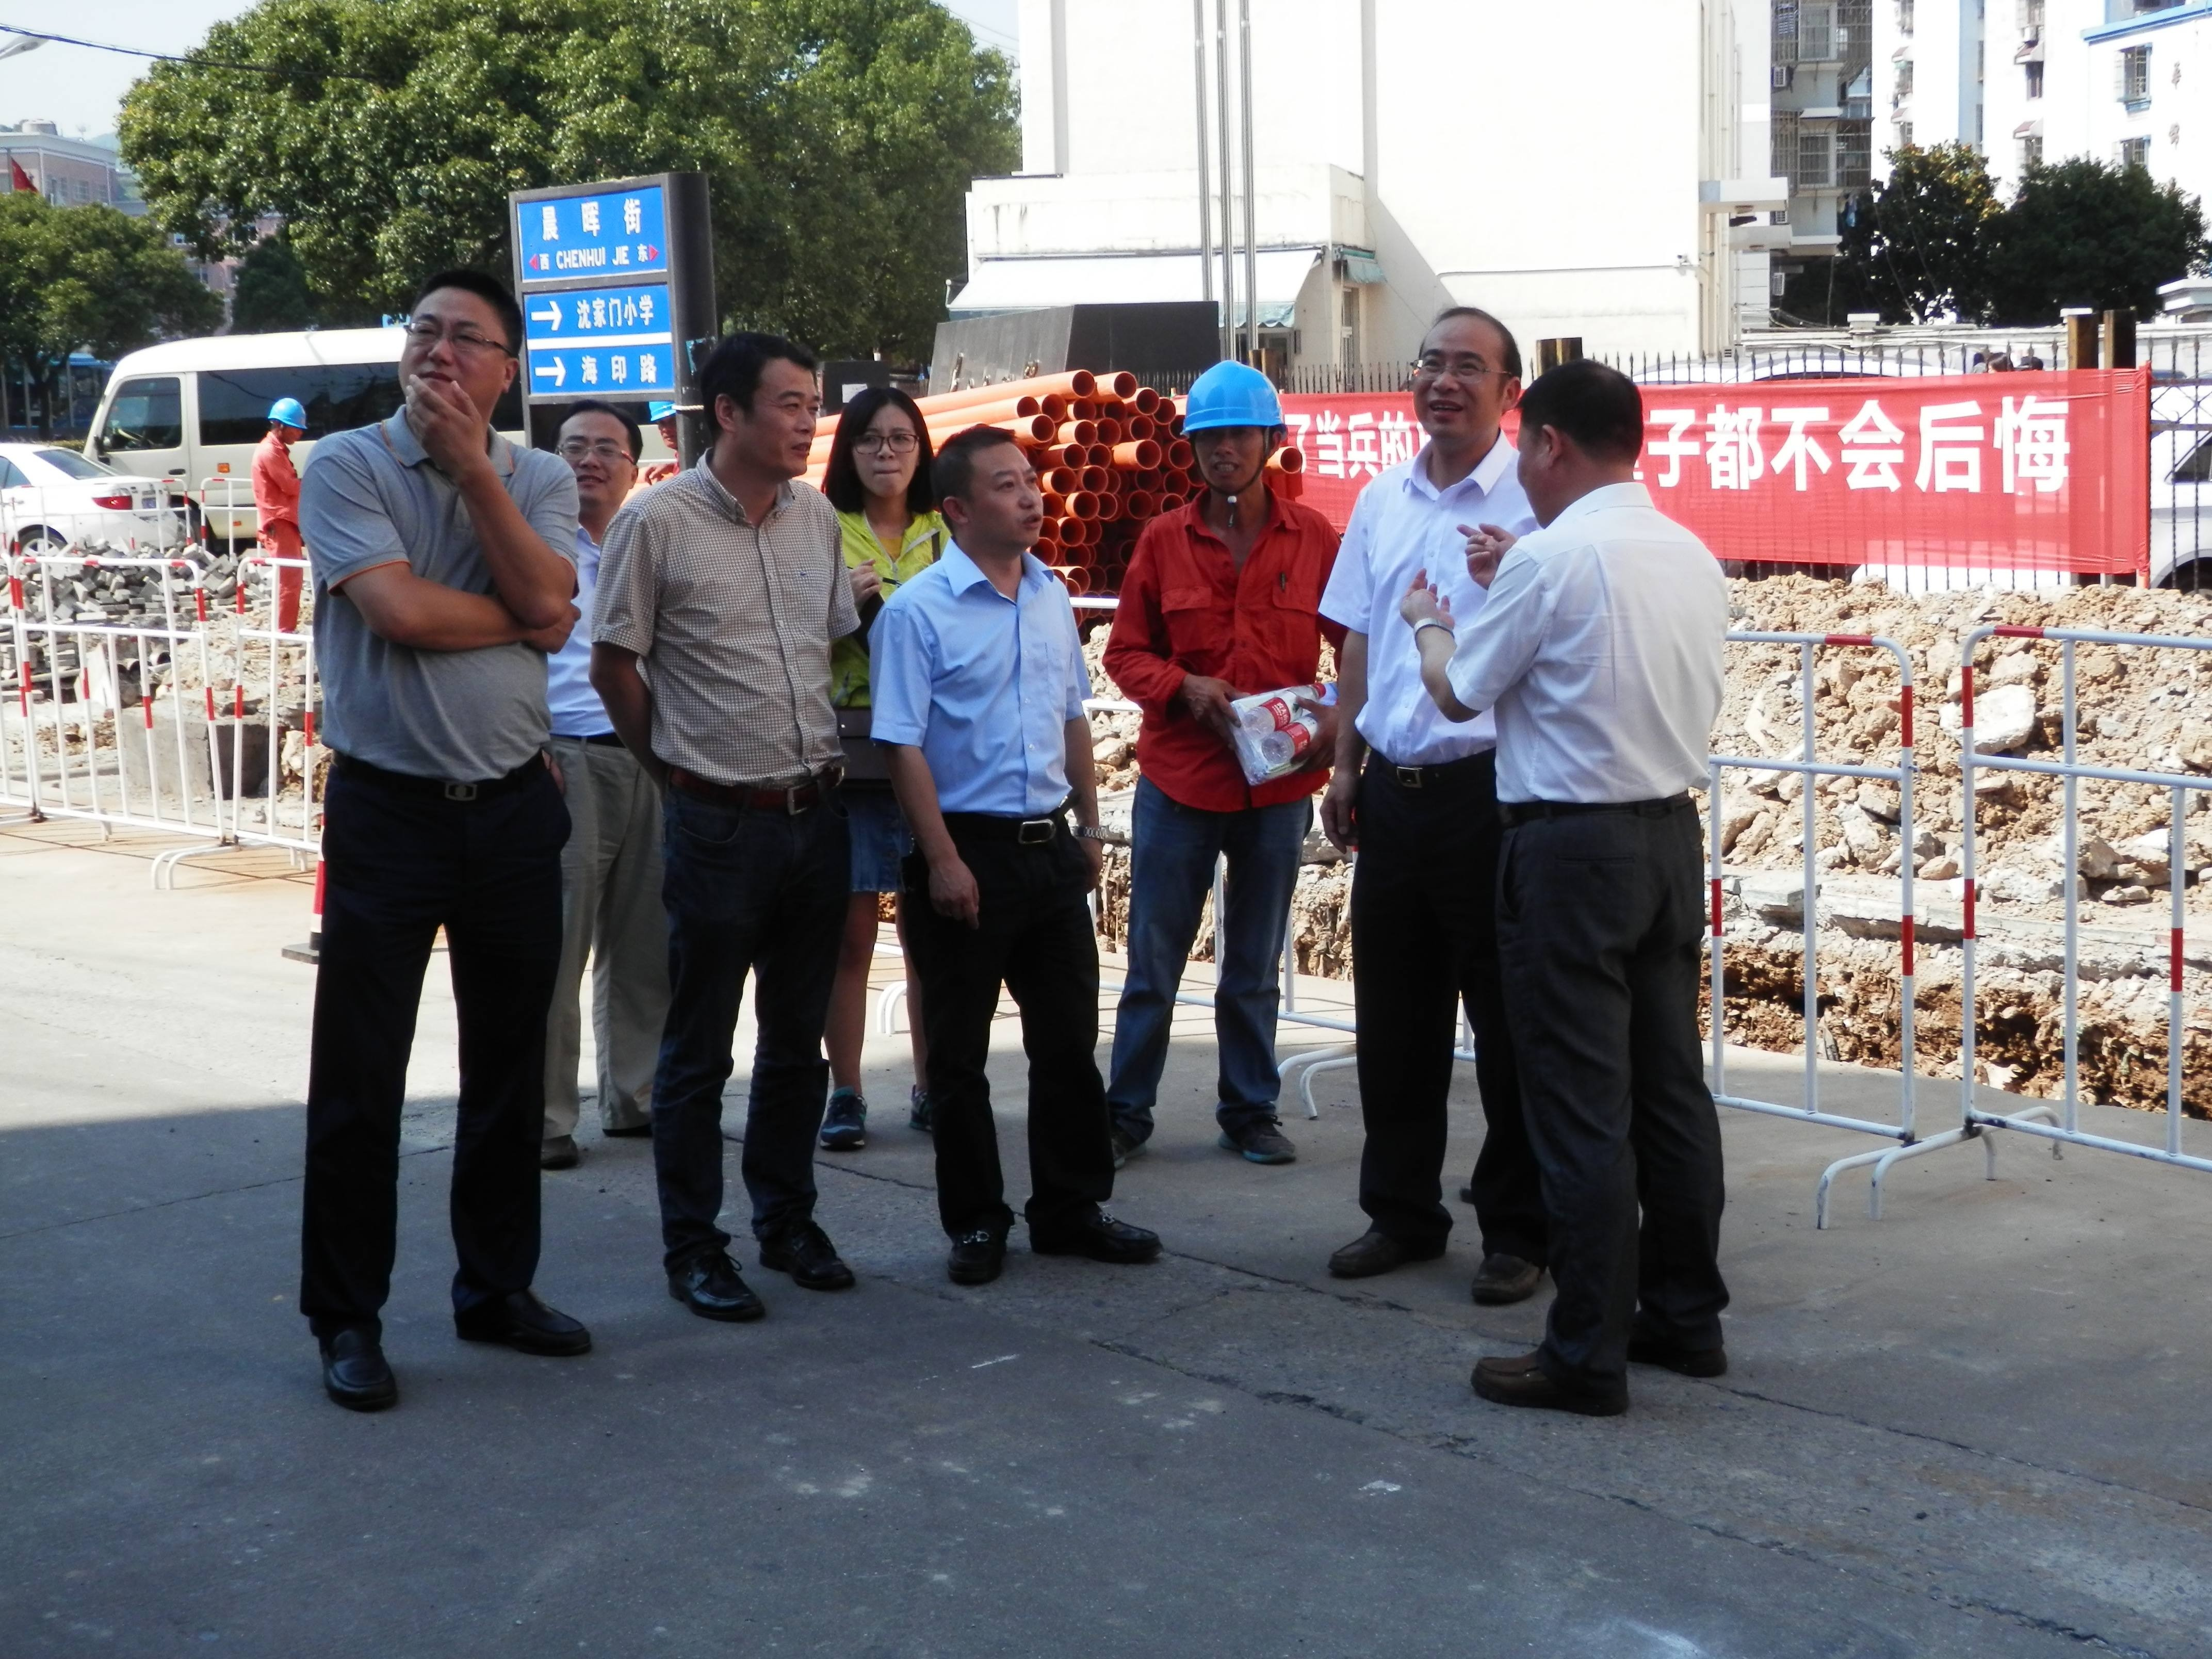blue: (1176, 349, 1284, 502)
none: (1510, 362, 1646, 518), (697, 322, 822, 484), (1399, 300, 1521, 450), (395, 277, 516, 425), (928, 423, 1043, 556), (836, 383, 927, 512), (552, 401, 641, 511)
